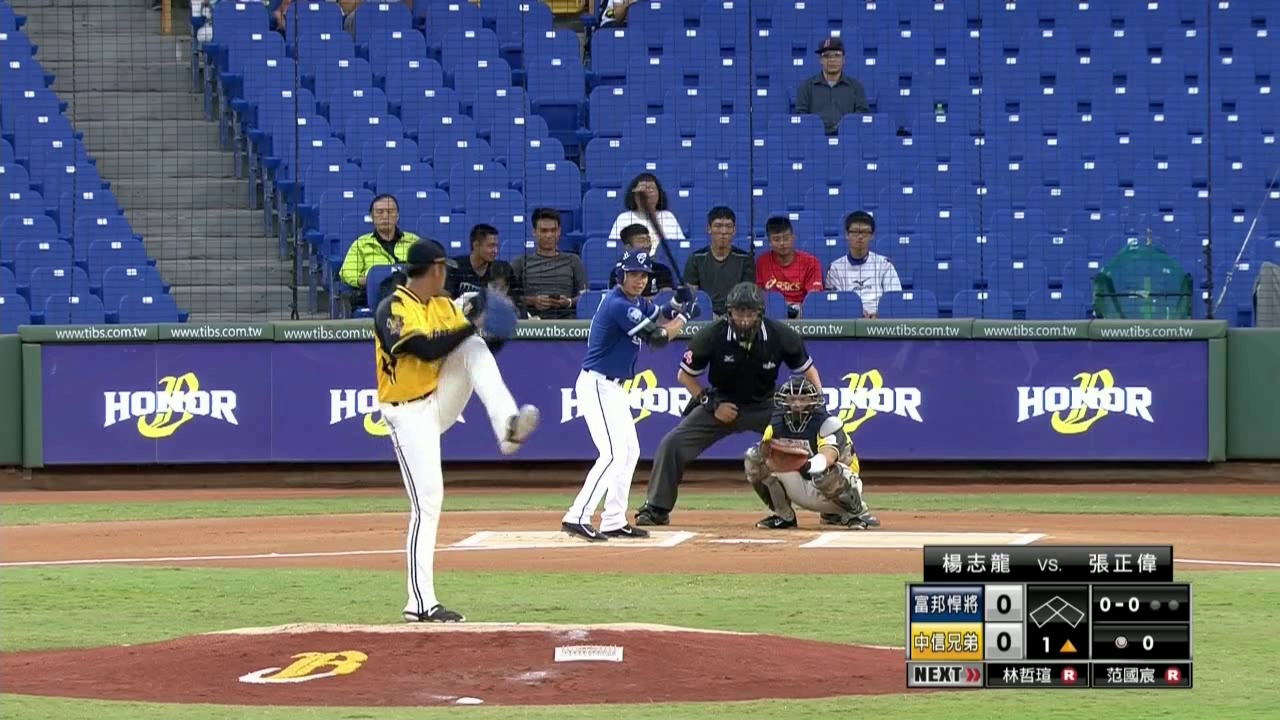base: (1029, 594, 1089, 631)
bat: (631, 186, 686, 288)
out: (1149, 597, 1181, 613)
score1: (984, 582, 1026, 620)
score2: (984, 622, 1024, 656)
session: (1037, 634, 1079, 657)
strikeball: (1098, 591, 1142, 614)
total: (1108, 630, 1160, 651)
